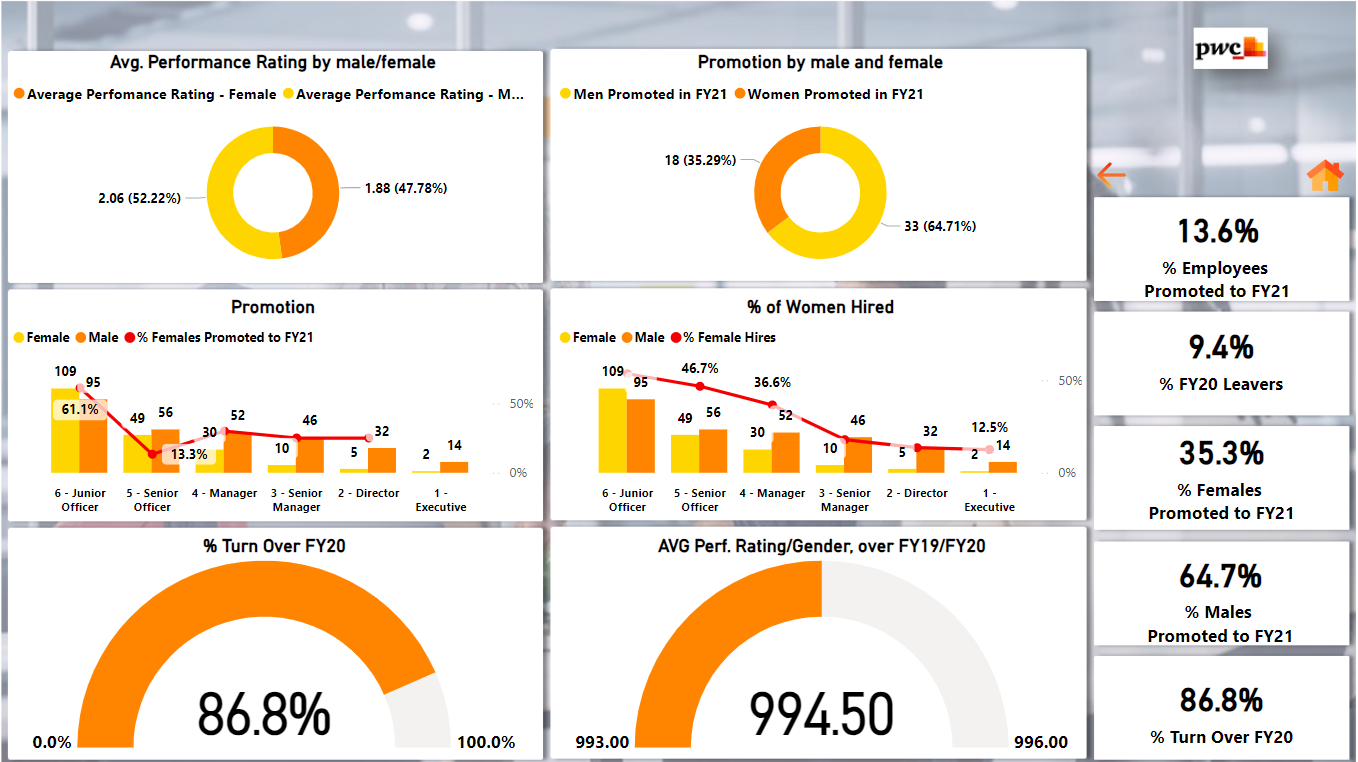

The dashboard page shown, as its layout file describes it:
{"tool":"powerbi","page":{"name":"Performance Dashboard","canvas":[1280,720],"ordinal":3},"visuals":[{"type":"image","box":[10.5,0,1269.8,719.8],"z":0},{"type":"image","box":[1025,144.1,45.3,45.3],"z":1000},{"type":"image","box":[1224.4,144.2,45.3,45.3],"z":2000},{"type":"card","fields":{"Values":["main_measures.% Employees Promoted to FY21"]},"box":[1052.3,141.9,188.4,170.9],"z":3000},{"type":"card","fields":{"Values":["main_measures.% FY20 Leavers"]},"box":[1052.3,293,195.3,83.7],"z":4000},{"type":"card","fields":{"Values":["main_measures.% Females Promoted to FY21"]},"box":[1068.6,351.2,164,165.1],"z":5000},{"type":"card","fields":{"Values":["main_measures.% Males Promoted to FY21"]},"box":[1073.3,466.3,152.3,162.8],"z":6000},{"type":"card","fields":{"Values":["main_measures.% Turn Over FY20"]},"box":[1075.6,616.3,150,94.2],"z":7000},{"type":"gauge","title":"AVG Perf. Rating/Gender, over FY19/FY20 ","fields":{"Y":["main_measures.AVG Performance Rating/Gender"],"MinValue":["Sum(Pharma Group AG.FY19 Performance Rating)"],"MaxValue":["Sum(Pharma Group AG.FY20 Performance Rating)"]},"box":[530.2,501.2,496.5,208.1],"z":8000},{"type":"donutChart","title":"Avg. Performance Rating by male/female","fields":{"Y":["main_measures.Average Perfomance Rating - Female","main_measures.Average Perfomance Rating - Male"]},"box":[20.9,51.2,494.2,215.1],"z":9000},{"type":"donutChart","title":"Promotion by male and female","fields":{"Y":["main_measures.Men Promoted in FY21","main_measures.Women Promoted in FY21"]},"box":[529.1,51.2,496.5,215.1],"z":10000},{"type":"lineClusteredColumnComboChart","title":"Promotion","fields":{"Category":["Pharma Group AG.Job Level after FY20 promotions"],"Y":["CountNonNull(Pharma Group AG.Job Level after FY20 promotions)"],"Y2":["main_measures.% Females Promoted to FY21"],"Series":["Pharma Group AG.Gender"]},"box":[20.9,279.1,494.2,211.6],"z":11000},{"type":"lineClusteredColumnComboChart","title":"% of Women Hired","fields":{"Category":["Pharma Group AG.Job Level after FY20 promotions"],"Y":["CountNonNull(Pharma Group AG.Job Level after FY20 promotions)"],"Y2":["main_measures.% Female Hires"],"Series":["Pharma Group AG.Gender"]},"box":[529.1,279.1,496.5,211.6],"z":12000},{"type":"gauge","fields":{"Y":["main_measures.% Turn Over FY20"]},"box":[22.1,501.2,494.2,208.1],"z":13000}]}

Visuals, with their boxes in screenshot pixels (x1, y1, x2, y2), scaled from the page's 1280x720 canvas onto the 1358x762 screenshot:
image: (11,0,1357,761)
image: (1087,153,1136,200)
image: (1299,153,1347,201)
card - main_measures.% Employees Promoted to FY21: (1116,150,1316,331)
card - main_measures.% FY20 Leavers: (1116,310,1324,399)
card - main_measures.% Females Promoted to FY21: (1134,372,1308,546)
card - main_measures.% Males Promoted to FY21: (1139,494,1300,666)
card - main_measures.% Turn Over FY20: (1141,652,1300,752)
"AVG Perf. Rating/Gender, over FY19/FY20 " gauge: (563,530,1089,751)
"Avg. Performance Rating by male/female" donutChart: (22,54,546,282)
"Promotion by male and female" donutChart: (561,54,1088,282)
"Promotion" lineClusteredColumnComboChart: (22,295,546,519)
"% of Women Hired" lineClusteredColumnComboChart: (561,295,1088,519)
gauge - main_measures.% Turn Over FY20: (23,530,548,751)
